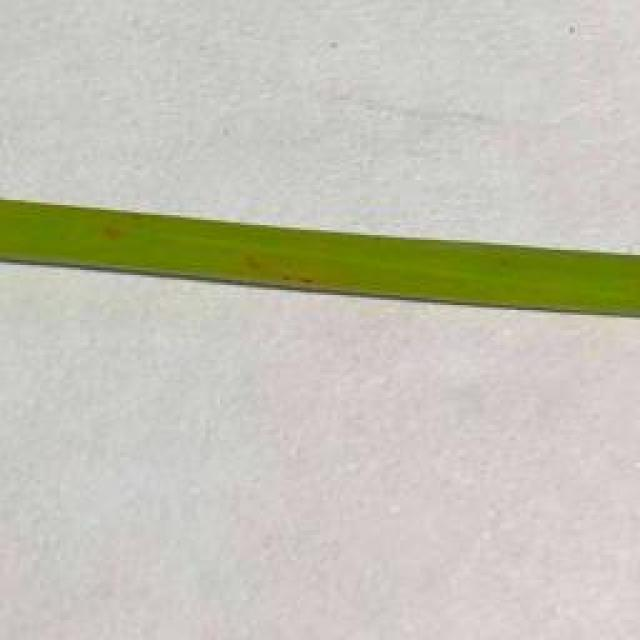Brown_Spot: (232, 250, 322, 298), (81, 212, 126, 244)
